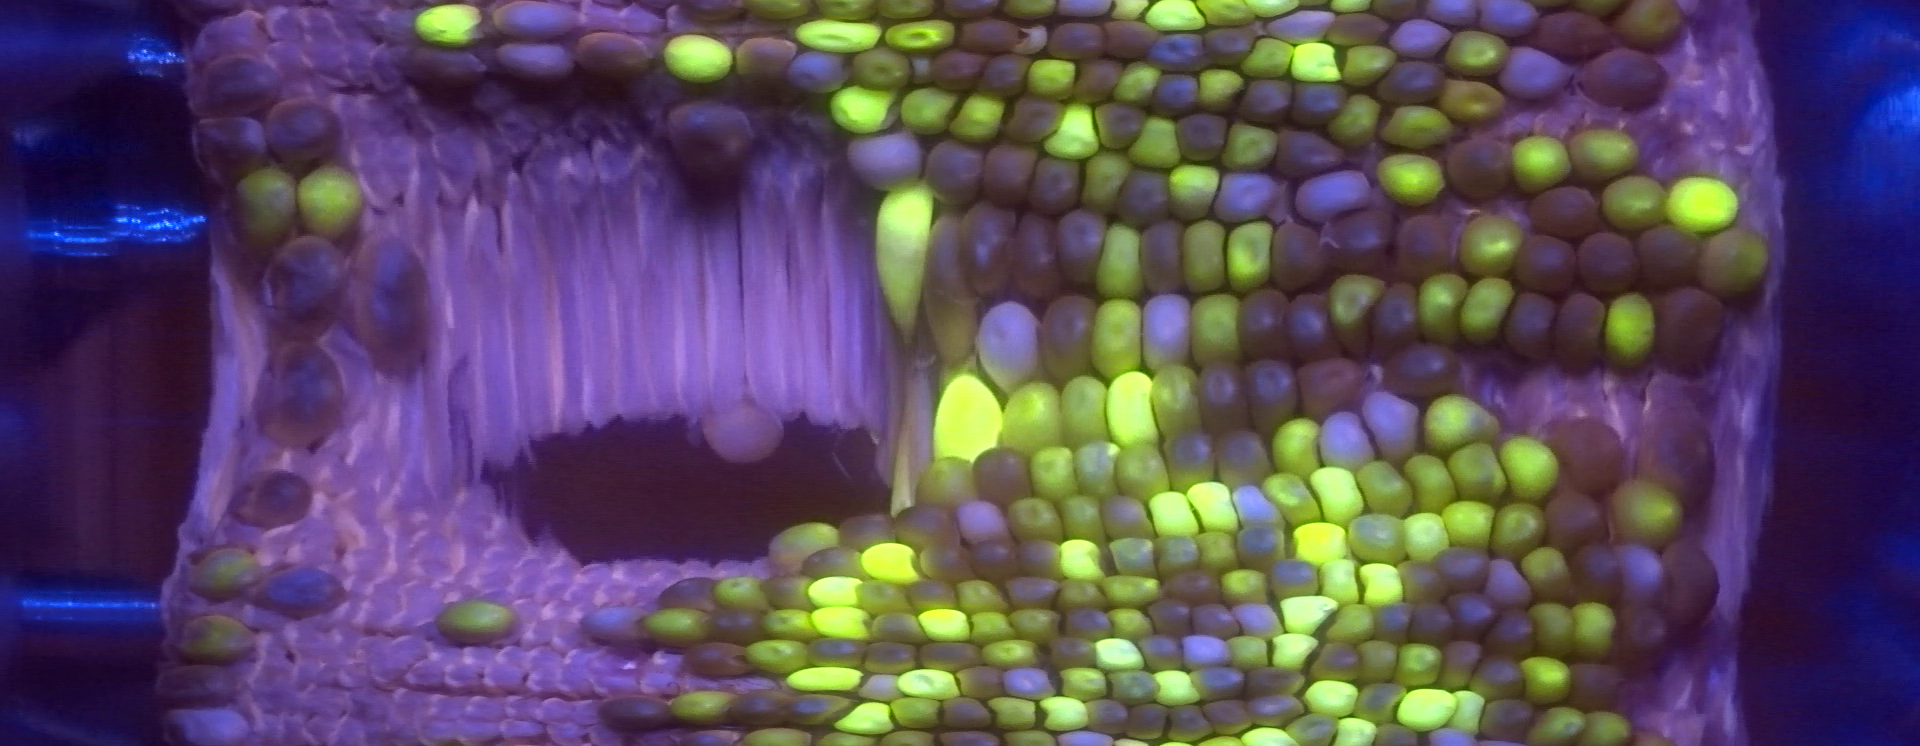fluorescent: (869, 176, 939, 352), (928, 369, 1009, 467), (228, 164, 304, 257), (293, 160, 369, 247), (1607, 477, 1691, 554), (1417, 390, 1511, 457), (1322, 269, 1392, 356), (1659, 171, 1745, 241), (996, 377, 1069, 458), (1086, 293, 1151, 383), (1101, 367, 1166, 453), (1453, 209, 1531, 281), (1600, 289, 1660, 377), (184, 543, 268, 605), (1596, 170, 1671, 239), (1444, 437, 1512, 513), (432, 595, 527, 650), (1455, 272, 1520, 352), (1498, 432, 1565, 508), (1092, 217, 1151, 304), (1184, 292, 1250, 367), (1370, 149, 1453, 209), (171, 614, 261, 669), (763, 518, 846, 577), (1412, 268, 1472, 349), (1145, 361, 1207, 439), (1053, 372, 1116, 450), (1073, 148, 1141, 218), (1564, 126, 1643, 186), (913, 453, 991, 514), (1351, 456, 1417, 526), (1267, 414, 1331, 486), (1223, 216, 1278, 299), (1302, 462, 1369, 529), (1482, 499, 1551, 563), (825, 85, 909, 138), (1254, 469, 1329, 529), (1038, 99, 1104, 167), (1400, 451, 1462, 522), (1179, 216, 1231, 300), (1108, 439, 1176, 502), (1376, 102, 1460, 153), (1509, 134, 1577, 196), (660, 32, 737, 87), (636, 603, 721, 652), (786, 16, 888, 56), (1346, 510, 1413, 570), (1124, 109, 1187, 173), (1515, 545, 1580, 606), (1433, 76, 1511, 126), (1019, 443, 1082, 503), (1056, 491, 1116, 555), (1164, 160, 1223, 225), (1180, 479, 1245, 538), (1441, 26, 1515, 77), (1614, 1, 1691, 50), (943, 89, 1007, 148), (1324, 91, 1382, 154), (1002, 495, 1068, 551), (411, 2, 487, 51), (1218, 119, 1281, 178), (1515, 653, 1580, 709), (1566, 599, 1621, 665), (1436, 499, 1498, 557), (899, 85, 962, 141), (1524, 599, 1580, 663), (1067, 439, 1123, 500), (855, 541, 926, 589), (1392, 685, 1461, 734), (1318, 599, 1382, 650), (1400, 510, 1456, 568), (809, 601, 880, 648), (803, 571, 876, 616), (851, 45, 916, 96), (740, 635, 816, 677), (1277, 590, 1343, 639), (1147, 488, 1205, 543), (779, 663, 869, 697), (1111, 59, 1167, 114), (1193, 62, 1249, 118), (882, 17, 962, 55), (669, 688, 742, 730), (1238, 32, 1297, 83), (891, 666, 969, 706), (827, 699, 904, 739), (852, 575, 920, 619), (1292, 519, 1356, 566), (1188, 528, 1251, 575), (1096, 573, 1167, 615), (1340, 42, 1400, 91), (1286, 40, 1347, 88), (1103, 533, 1166, 579), (1300, 675, 1363, 722), (1521, 704, 1589, 746), (1022, 54, 1079, 104), (1150, 530, 1209, 578), (1049, 661, 1114, 704), (913, 601, 976, 646), (711, 573, 775, 616), (758, 605, 827, 644), (954, 576, 1013, 621), (1314, 556, 1365, 608), (1149, 665, 1209, 709), (1057, 537, 1109, 587), (1091, 635, 1153, 676), (983, 691, 1042, 735), (1354, 636, 1404, 687), (1052, 573, 1116, 614), (976, 637, 1048, 673), (1392, 638, 1442, 688), (1009, 606, 1070, 647), (1036, 693, 1093, 736), (1217, 567, 1277, 608), (1221, 632, 1277, 675), (1142, 1, 1212, 36), (1445, 685, 1490, 737), (1266, 632, 1325, 673), (887, 695, 949, 733), (962, 611, 1024, 649), (1104, 605, 1161, 646), (1576, 708, 1635, 746), (1326, 713, 1382, 746), (733, 725, 820, 746), (1239, 723, 1308, 746), (1000, 1, 1067, 22)
nonfluorescent: (347, 225, 437, 379), (247, 341, 349, 452), (255, 230, 350, 338), (1635, 415, 1718, 517), (922, 201, 972, 367), (664, 99, 756, 181), (182, 109, 276, 184), (973, 296, 1044, 393), (1573, 40, 1670, 109), (1033, 292, 1103, 383), (1555, 416, 1630, 502), (1000, 206, 1064, 305), (1656, 287, 1724, 379), (197, 51, 285, 122), (253, 98, 343, 168), (1351, 386, 1431, 463), (1657, 535, 1718, 635), (1316, 202, 1393, 279), (842, 124, 927, 194), (223, 470, 313, 534), (245, 565, 347, 621), (1229, 284, 1298, 366), (961, 205, 1018, 303), (1631, 220, 1704, 292), (1136, 289, 1196, 376), (1191, 355, 1253, 440), (1239, 354, 1300, 439), (1526, 181, 1603, 247), (918, 136, 987, 209), (1379, 342, 1461, 403), (1534, 488, 1611, 552), (1266, 217, 1329, 295), (1603, 541, 1670, 614), (1442, 136, 1518, 200), (1051, 207, 1112, 285), (1569, 229, 1641, 295), (967, 442, 1036, 511), (1291, 352, 1360, 419), (1392, 213, 1458, 284), (568, 26, 651, 82), (1291, 168, 1374, 224), (1135, 213, 1191, 296), (399, 40, 487, 93), (1109, 164, 1176, 234), (978, 138, 1041, 212), (1511, 229, 1580, 294), (1311, 408, 1380, 473), (1555, 288, 1607, 374), (1499, 285, 1558, 360), (1369, 281, 1427, 356), (889, 497, 965, 555), (1155, 428, 1223, 491), (1493, 44, 1580, 94), (492, 34, 578, 85), (1207, 167, 1280, 225), (1024, 154, 1091, 216), (1524, 9, 1613, 55), (1614, 598, 1670, 669), (1284, 288, 1337, 364), (1212, 428, 1276, 490), (1084, 93, 1151, 152), (486, 1, 587, 40), (997, 91, 1068, 146), (1561, 652, 1622, 715), (1272, 130, 1346, 183), (151, 661, 238, 706), (1369, 58, 1449, 104), (591, 691, 673, 735), (1430, 539, 1493, 597), (1095, 488, 1158, 543), (926, 42, 992, 94), (1284, 76, 1351, 129), (683, 635, 754, 684), (1171, 107, 1229, 165), (1155, 563, 1228, 610), (1462, 654, 1532, 703), (1434, 632, 1487, 697), (948, 492, 1010, 546), (1480, 606, 1543, 660), (1380, 16, 1453, 61), (962, 532, 1026, 583), (1195, 18, 1260, 69), (1570, 545, 1622, 606), (1262, 4, 1337, 47), (1442, 588, 1502, 641), (782, 49, 849, 97), (1232, 521, 1291, 573), (913, 637, 989, 677), (797, 544, 874, 583), (950, 16, 1022, 58), (784, 687, 860, 726), (1095, 17, 1162, 61), (1150, 64, 1202, 120), (1145, 31, 1213, 73), (913, 537, 976, 583), (1483, 556, 1534, 612), (1224, 481, 1283, 530), (1041, 22, 1107, 65), (1071, 56, 1127, 108), (1309, 637, 1364, 688), (579, 601, 651, 641), (977, 47, 1033, 97), (1237, 78, 1294, 127), (1102, 661, 1160, 710), (729, 684, 793, 726), (660, 571, 721, 616), (1393, 559, 1447, 609), (1407, 598, 1457, 652), (1322, 6, 1387, 48), (860, 636, 921, 680), (738, 33, 793, 81), (800, 636, 869, 673), (1240, 661, 1308, 699), (1352, 677, 1408, 723), (836, 511, 898, 552), (1477, 696, 1538, 737), (1142, 594, 1198, 639), (1472, 2, 1539, 39), (1174, 632, 1236, 673), (1245, 688, 1307, 729), (997, 663, 1056, 704), (1184, 664, 1248, 702), (1266, 559, 1322, 601), (999, 570, 1060, 609), (1157, 698, 1210, 744), (850, 577, 909, 617), (1079, 693, 1133, 737), (1229, 598, 1284, 641), (700, 604, 767, 639), (1200, 699, 1256, 741), (1119, 696, 1171, 741), (760, 571, 816, 612), (936, 693, 993, 733), (869, 609, 931, 646), (1187, 598, 1240, 639), (1056, 606, 1114, 644), (1015, 533, 1063, 579), (1369, 599, 1416, 647), (1136, 628, 1187, 673), (953, 661, 1007, 702), (1046, 632, 1097, 670), (902, 575, 958, 609), (855, 669, 906, 706), (1419, 1, 1483, 29), (1365, 715, 1420, 746), (927, 724, 1005, 744), (938, 1, 1004, 22)
